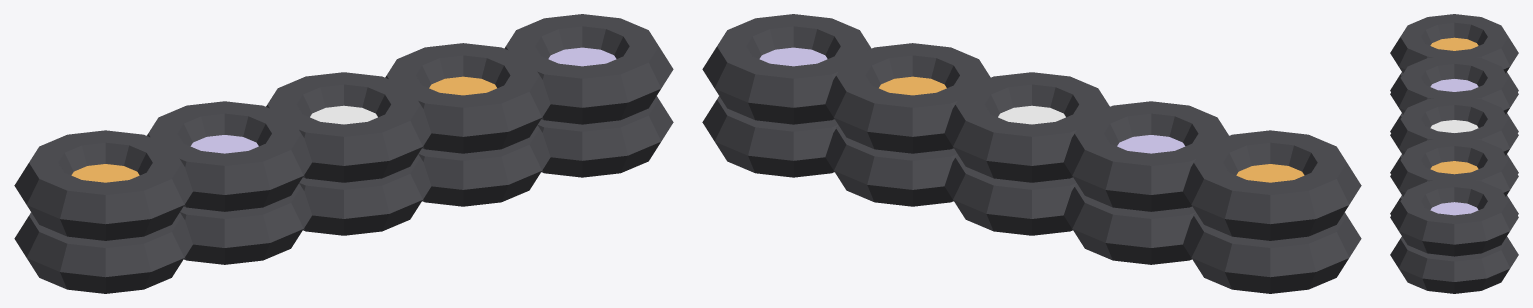
Rendered from tire_wall.glb.
3 views of the same model, side by side, from view 1: azimuth 30°, elevation 25°; view 2: azimuth 150°, elevation 25°; view 3: azimuth 270°, elevation 25° (orthographic). The views are drawn at different scales.
Visible parts, largest first — view 1: tire_wall; view 2: tire_wall; view 3: tire_wall.
Boxes of the visible parts, box(x1,y1,x2,y2) form: tire_wall: box(14, 14, 673, 293); tire_wall: box(702, 14, 1361, 293); tire_wall: box(1390, 14, 1518, 293).
Bounding box in the file's own units: 4.26 × 0.6344 × 1.06.
